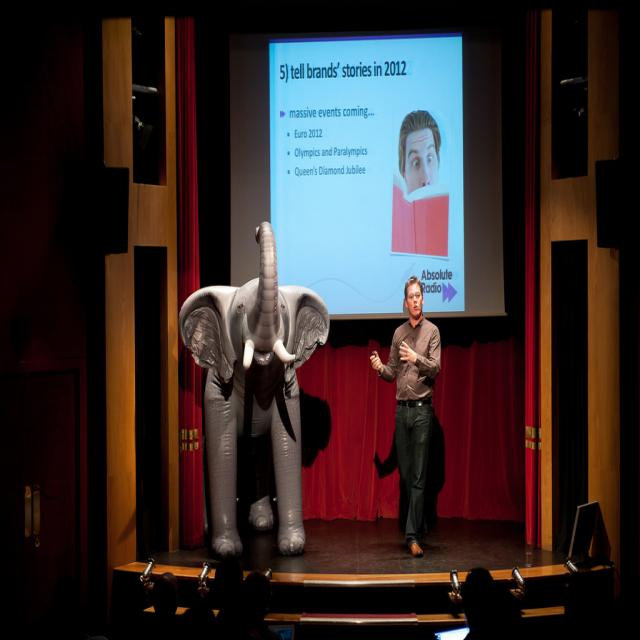elephant: (177, 262, 332, 582)
